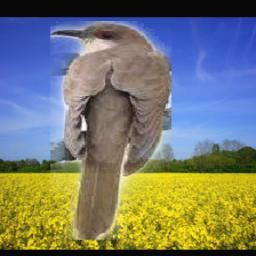Cuckoo: (50, 22, 171, 241)
